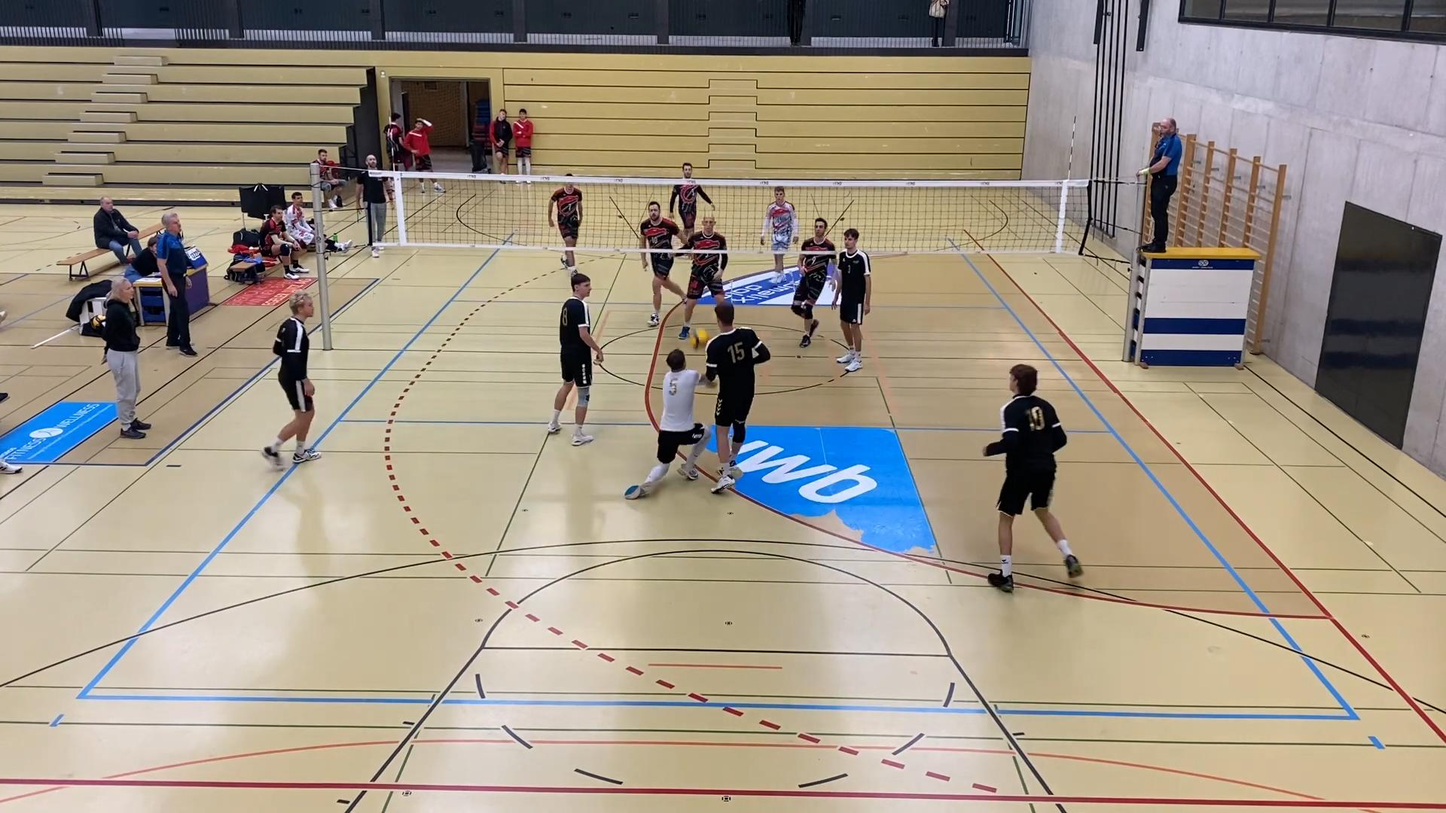Player: (984, 364, 1081, 591), (706, 302, 770, 492), (261, 293, 321, 468), (548, 273, 603, 446), (679, 217, 727, 339), (831, 228, 871, 372), (792, 218, 836, 347), (639, 202, 683, 326), (759, 187, 798, 282), (670, 163, 712, 239), (548, 181, 581, 273)
Receive: (626, 345, 722, 502)
ball: (691, 329, 709, 345)
